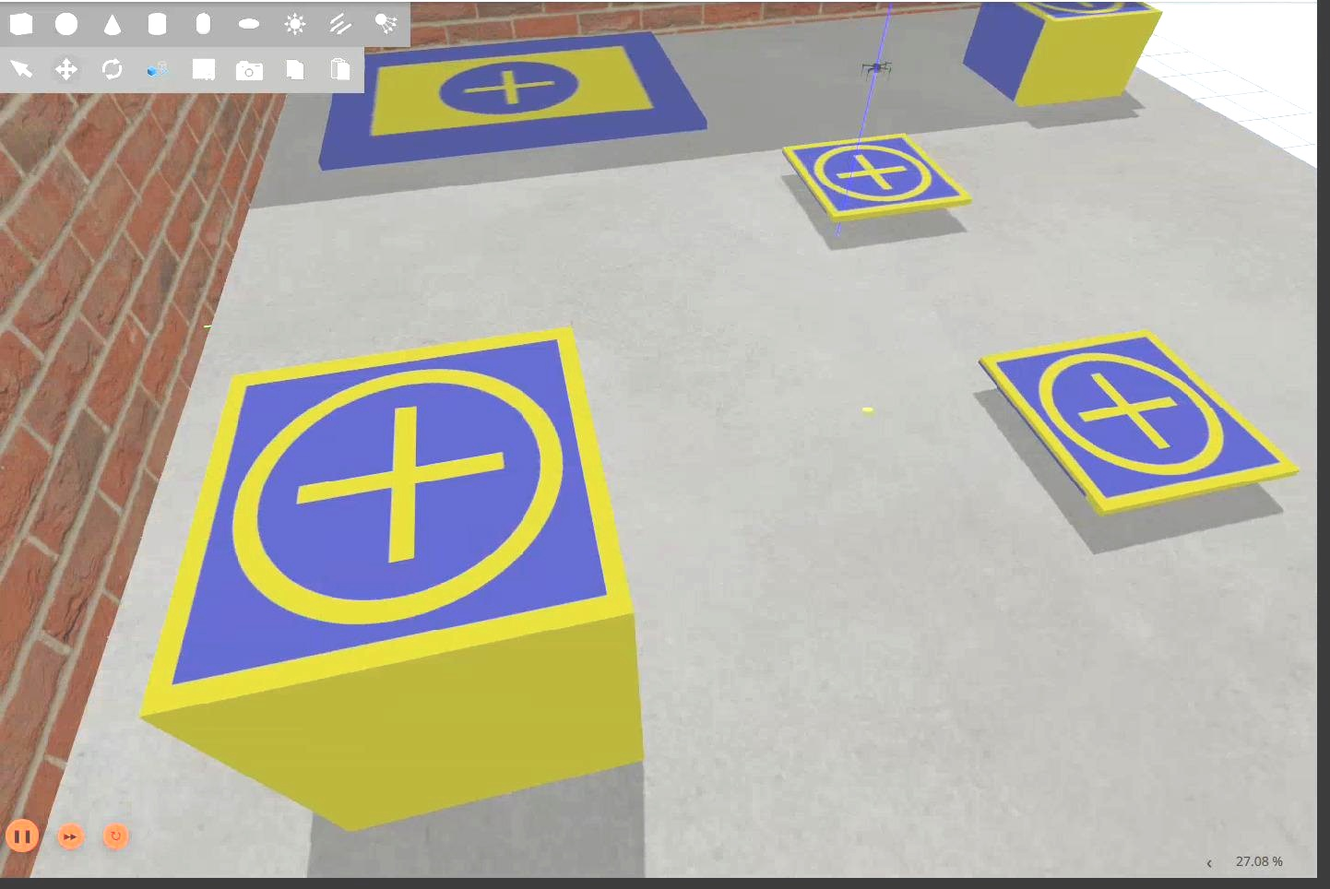large_base: (317, 31, 710, 176)
small_base: (137, 328, 637, 727), (982, 332, 1299, 516), (783, 138, 974, 229), (980, 1, 1165, 27)
